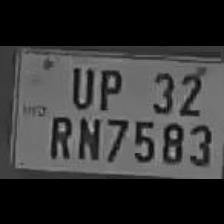2: (175, 66, 205, 116)
3: (184, 118, 214, 166), (148, 65, 174, 112)
5: (130, 114, 156, 162)
7: (100, 113, 127, 163)
8: (158, 117, 184, 163)
N: (72, 111, 102, 160)
P: (92, 62, 124, 110)
R: (44, 110, 74, 160)
U: (65, 60, 95, 108)
